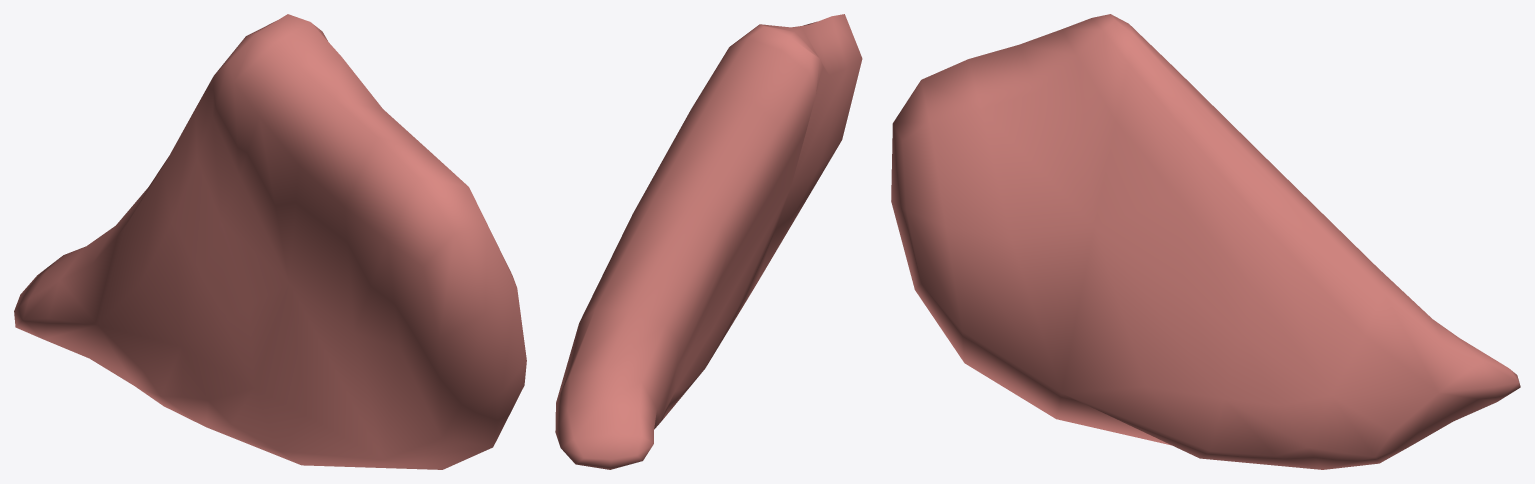
The picture shows the model from 3 angles, left to right: view 1: azimuth 30°, elevation 25°; view 2: azimuth 150°, elevation 25°; view 3: azimuth 270°, elevation 25°; orthographic projection. The views are drawn at different scales.
Parts seen in each view (by area): view 1: ZA_0d00596538ef76ba; view 2: ZA_0d00596538ef76ba; view 3: ZA_0d00596538ef76ba.
Part boxes in pixels (bbox=[...]): ZA_0d00596538ef76ba: bbox=[14, 14, 526, 469]; ZA_0d00596538ef76ba: bbox=[555, 14, 862, 469]; ZA_0d00596538ef76ba: bbox=[891, 14, 1520, 469].
Bounding box in the file's own units: 0.000862 × 0.00176 × 0.00249.
